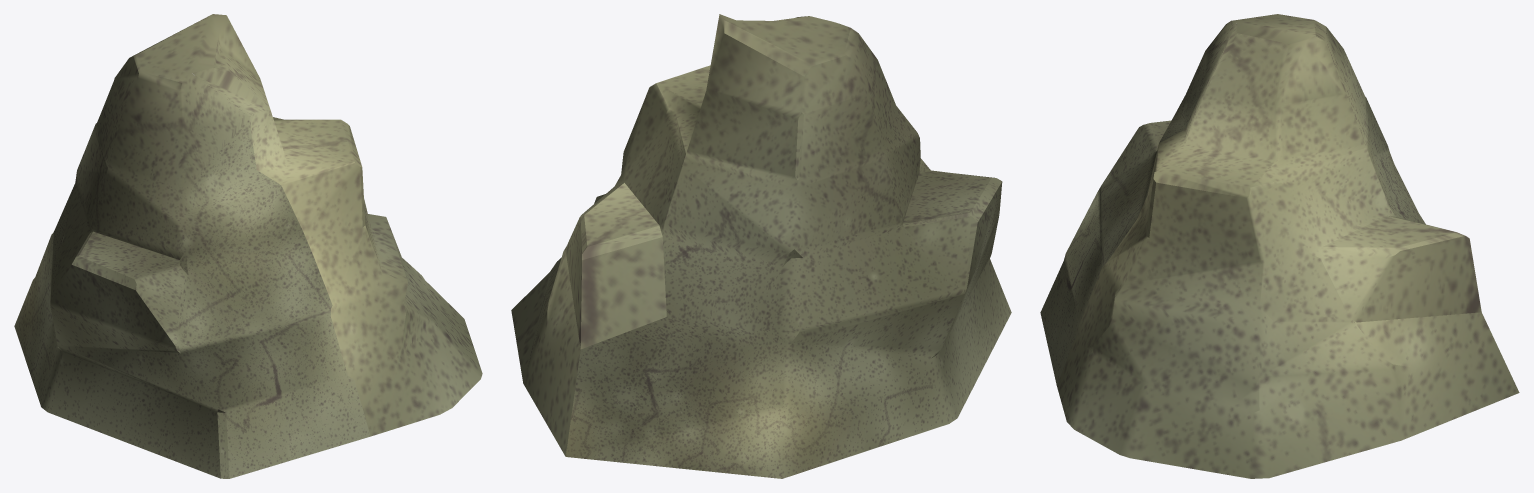
File: Rock2L.fbx
3 views of the same model, side by side, from view 1: azimuth 30°, elevation 25°; view 2: azimuth 150°, elevation 25°; view 3: azimuth 270°, elevation 25° (orthographic). The views are drawn at different scales.
Parts seen in each view (by area): view 1: pCone3; view 2: pCone3; view 3: pCone3.
Boxes of the visible parts, x1,y1,x2,y2 form: pCone3: (14,14,482,478); pCone3: (511,14,1011,478); pCone3: (1040,14,1519,478).
Size of the model in its own units: 624 by 485 by 629.
